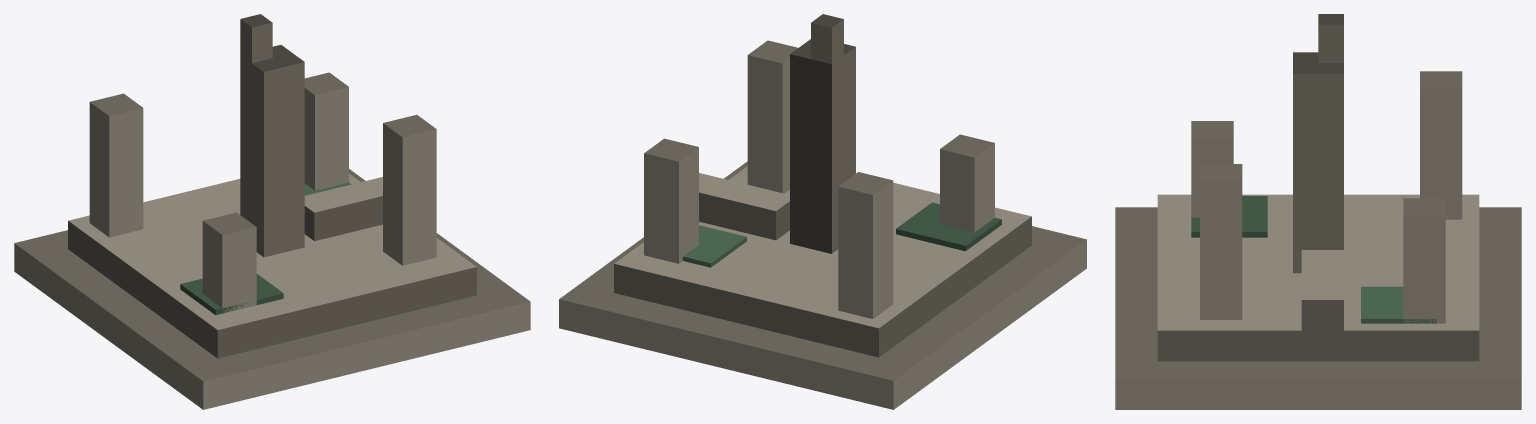
The model's file is bld_relic.glb.
3 renders of one model, left to right at view 1: azimuth 30°, elevation 25°; view 2: azimuth 150°, elevation 25°; view 3: azimuth 270°, elevation 25°, orthographic. The views are drawn at different scales.
Visible parts, largest first — view 1: bld_relic; view 2: bld_relic; view 3: bld_relic.
Boxes of the visible parts, box(x1,y1,x2,y2) form: bld_relic: box(14, 14, 530, 409); bld_relic: box(559, 14, 1086, 409); bld_relic: box(1115, 14, 1521, 409).
Size of the model in its own units: 0.96 by 0.78 by 0.96.
Materials: 1 (1 with a texture image).
